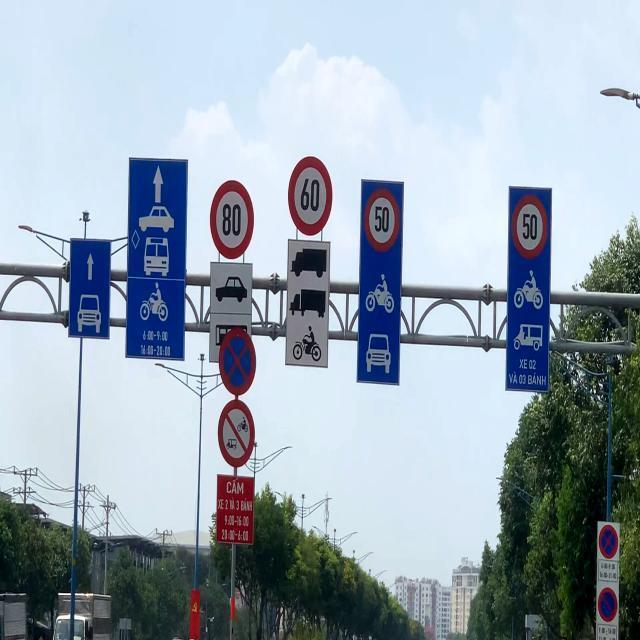127-toc-do-toi-da-50: (362, 188, 400, 250), (511, 196, 547, 256)
127-toc-do-toi-da-60: (288, 157, 336, 233)
127-toc-do-toi-da-80: (210, 182, 254, 258)
130-cam-dung-va-do-xe: (217, 331, 261, 393), (596, 525, 618, 559)
131a-cam-do-xe: (597, 587, 619, 621)
